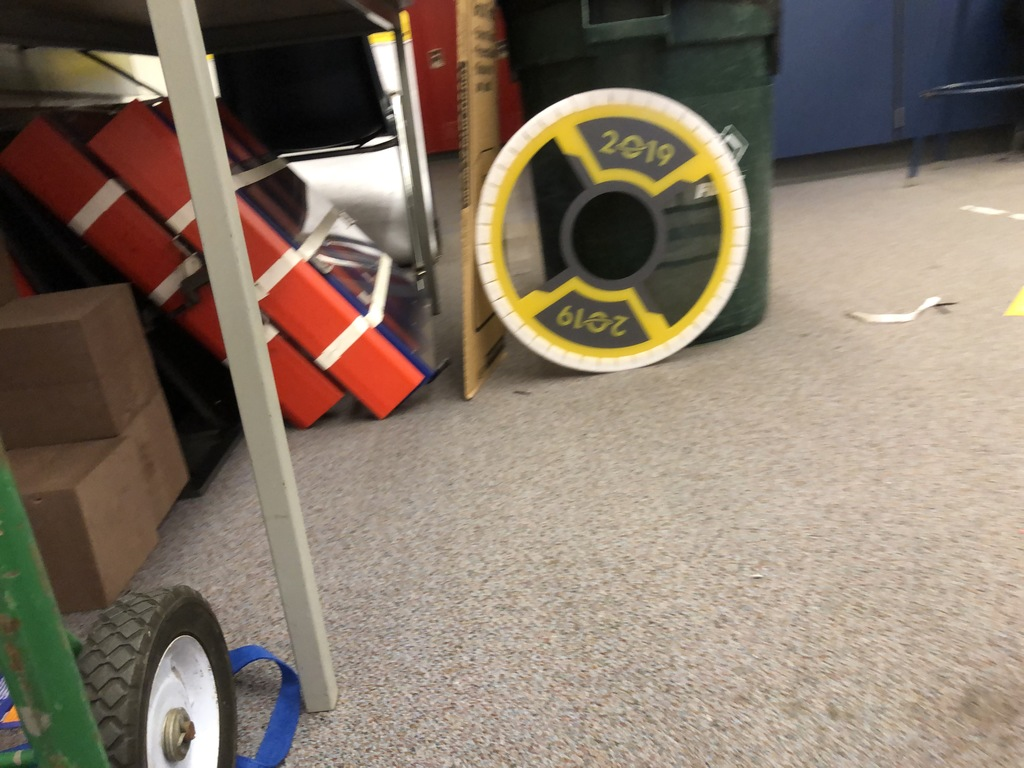hatch_panel: (471, 75, 767, 387)
